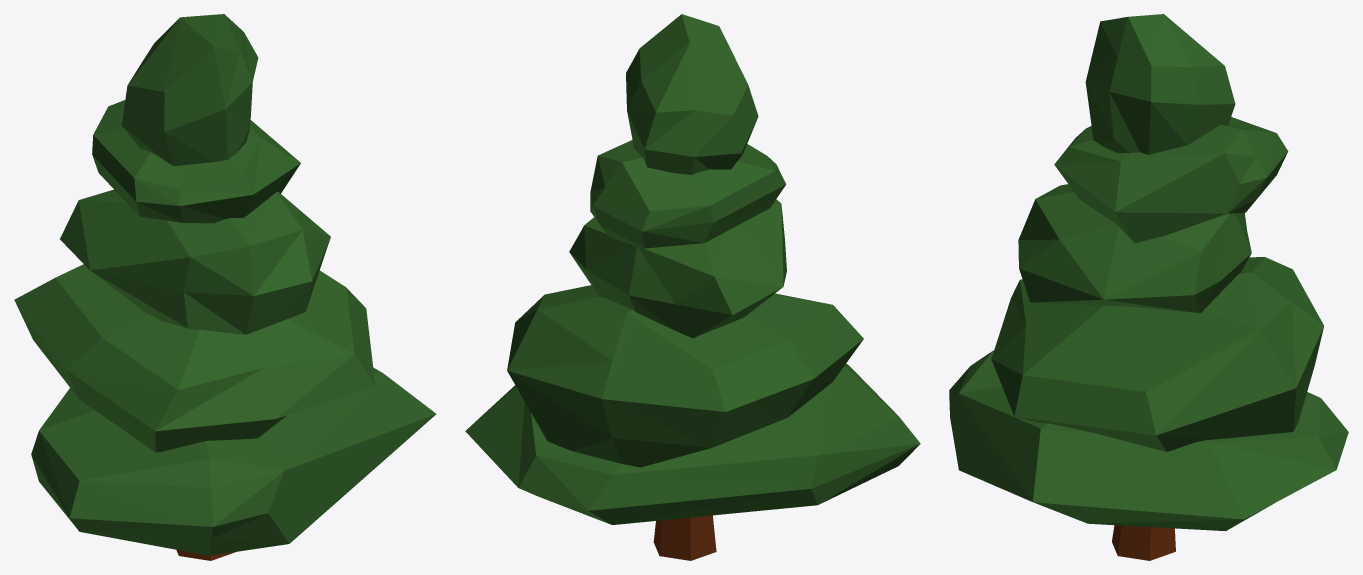
Rendered from TemperateTree_17.glb.
3 views of the same model, side by side, from view 1: azimuth 30°, elevation 25°; view 2: azimuth 150°, elevation 25°; view 3: azimuth 270°, elevation 25° (orthographic). The views are drawn at different scales.
Visible parts, largest first — view 1: Tree_temp_climate_017; view 2: Tree_temp_climate_017; view 3: Tree_temp_climate_017.
Part boxes in pixels (bbox=[...]): Tree_temp_climate_017: bbox=[14, 14, 436, 560]; Tree_temp_climate_017: bbox=[465, 14, 920, 560]; Tree_temp_climate_017: bbox=[949, 14, 1348, 560].
Size of the model in its own units: 3.15 by 4.43 by 3.
1 material, 1 textured.
